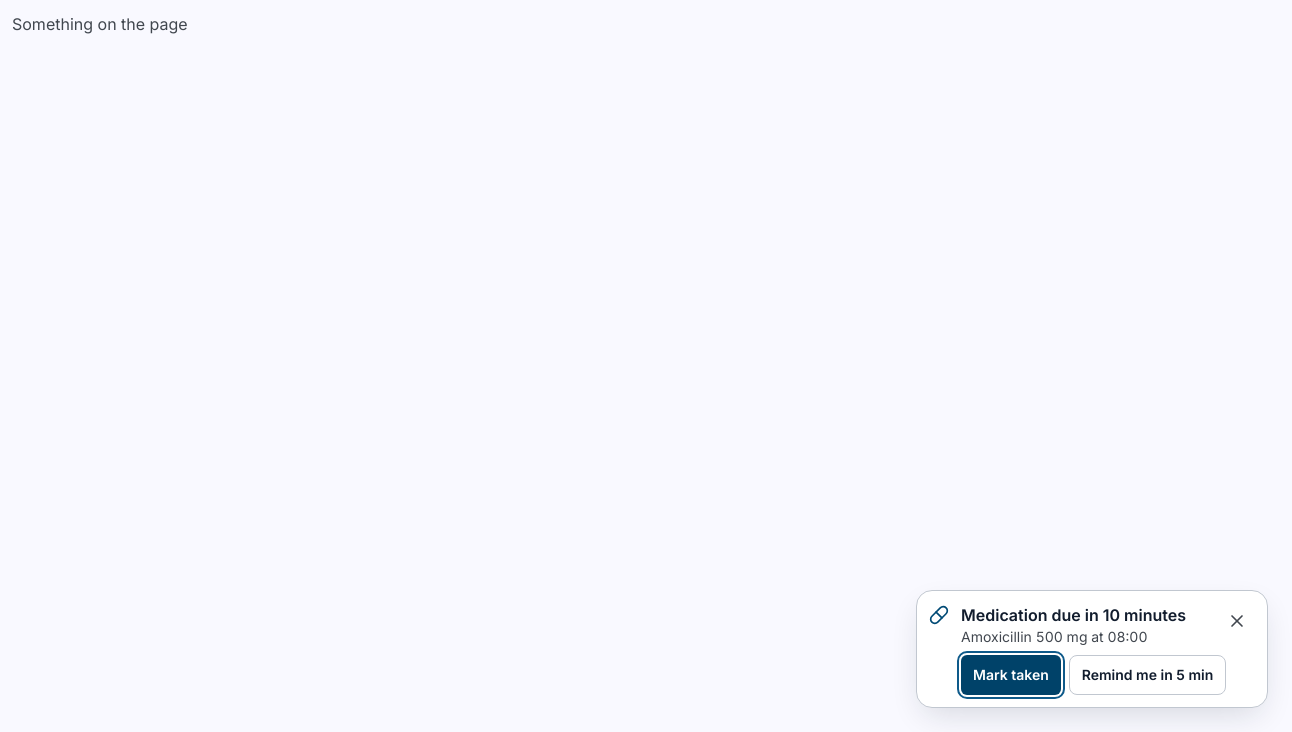
Test: the reminder card › hands focus on when a dose marked taken leaves, even if other reminders came meanwhile
Click the button with aria-label "Mark taken: Amoxicillin". click: (1011, 675)
box: [961,655,1061,695]
Wait 122000 ms
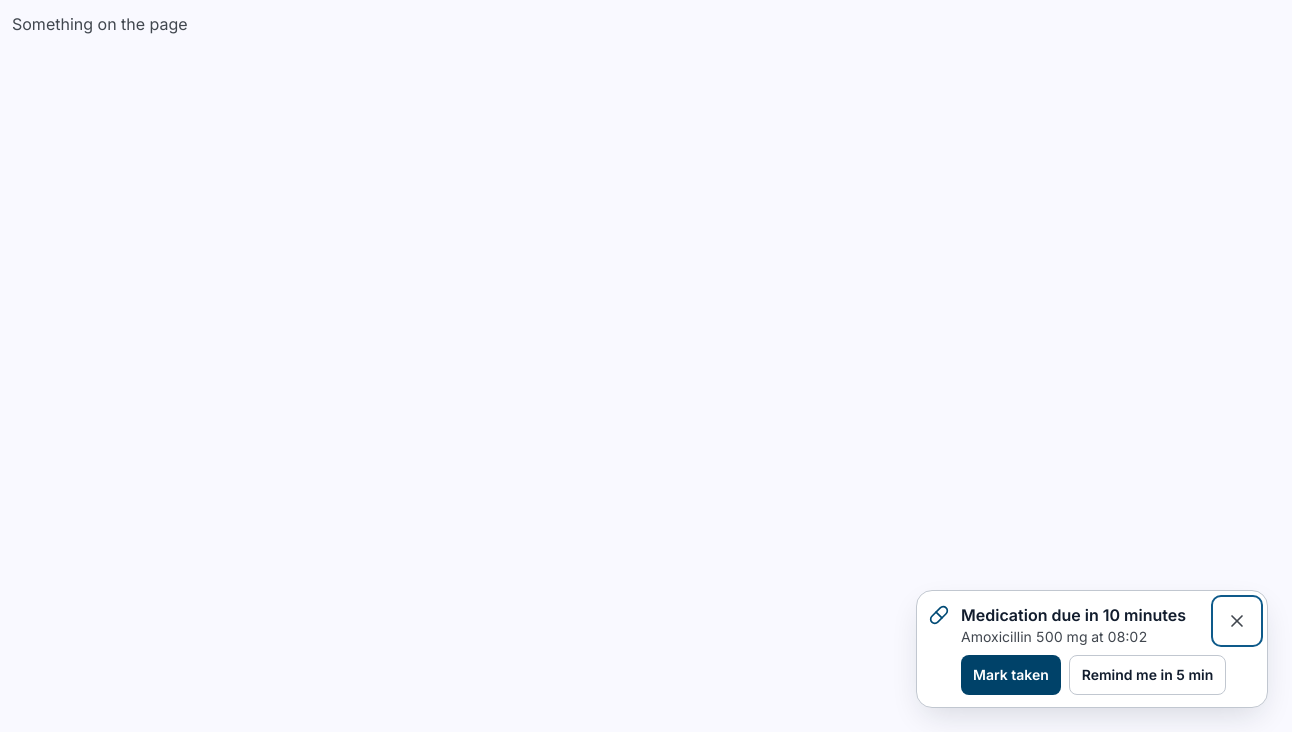
Result: the text "Amoxicillin 500 mg at 08:00" is gone
